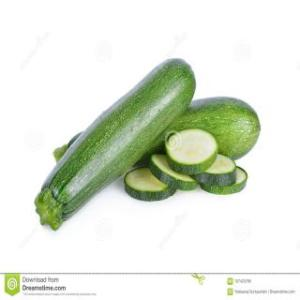zucchini: (33, 63, 189, 209)
